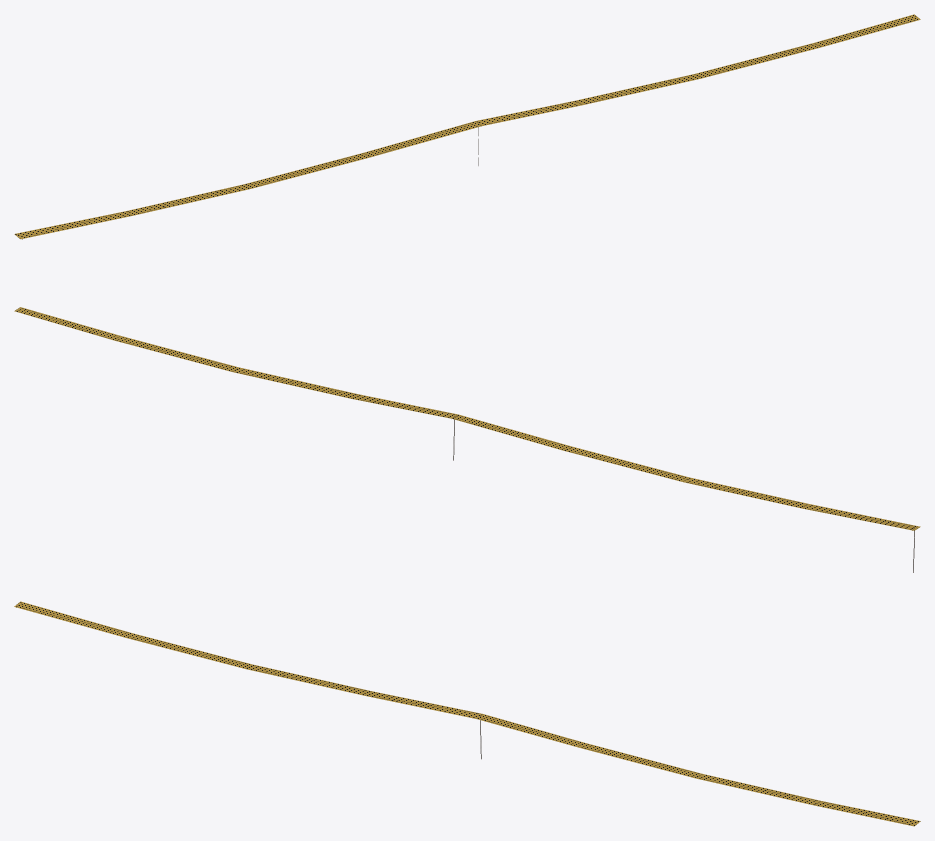
Rendered from dianxiangan.FBX.
The picture shows the model from 3 angles, top to bottom: view 1: azimuth 30°, elevation 25°; view 2: azimuth 150°, elevation 25°; view 3: azimuth 330°, elevation 25°; orthographic projection.
Parts seen in each view (by area): view 1: dianxiangan; view 2: dianxiangan; view 3: dianxiangan.
Boxes of the visible parts, left/top/right/bottom form: dianxiangan: left=14, top=14, right=920, bottom=239; dianxiangan: left=14, top=307, right=920, bottom=572; dianxiangan: left=14, top=601, right=920, bottom=826.
Size of the model in its own units: 300 by 14.12 by 4.27.
2 materials, 2 textured.
